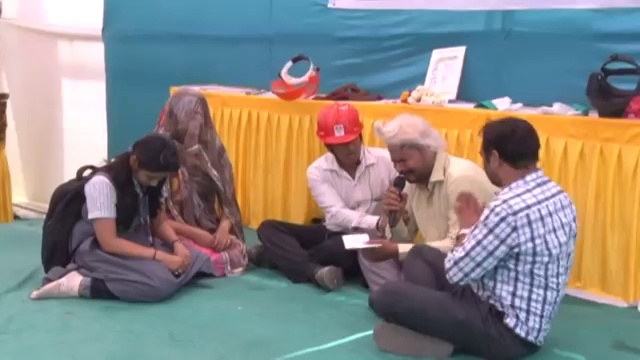helmet: (316, 102, 364, 148)
helmet_off: (477, 120, 548, 192), (119, 123, 184, 197), (383, 121, 441, 183), (163, 90, 215, 156)
helmet_on: (312, 102, 375, 171)
person: (370, 111, 582, 356), (27, 130, 218, 295), (242, 102, 388, 283), (354, 120, 495, 292), (146, 89, 248, 271)
